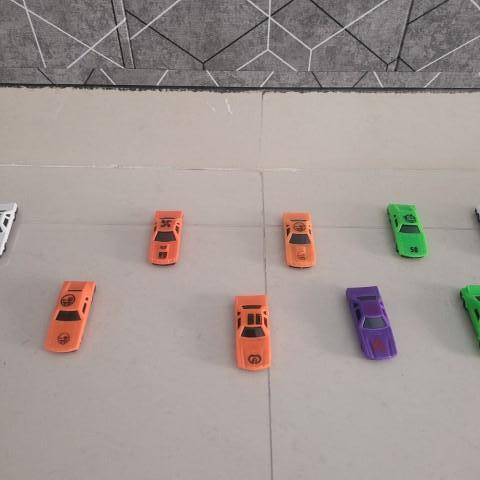car: (343, 284, 403, 362), (39, 279, 97, 354), (232, 292, 273, 371), (384, 203, 430, 258), (279, 209, 319, 271), (146, 207, 186, 267)
